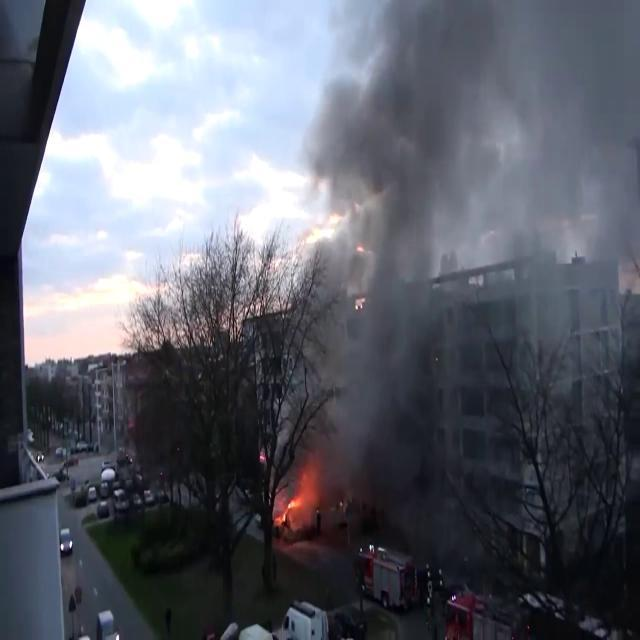Fire: (274, 454, 326, 536)
Smoke: (306, 0, 640, 534)
